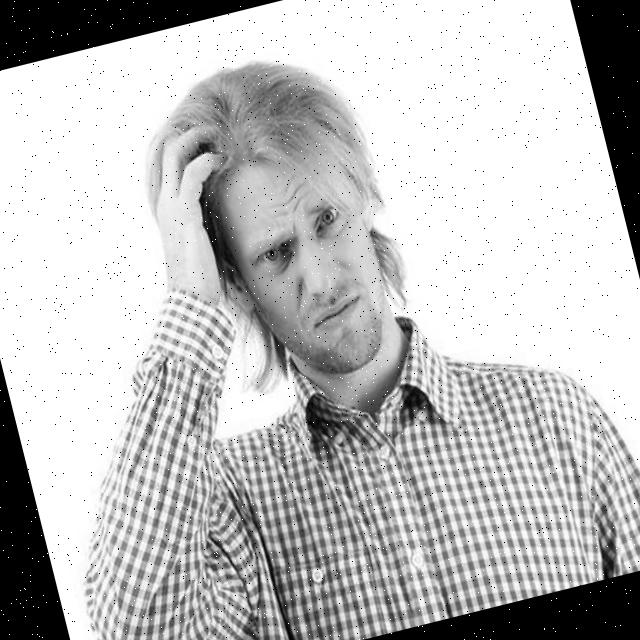Disgust: (218, 140, 400, 394)
